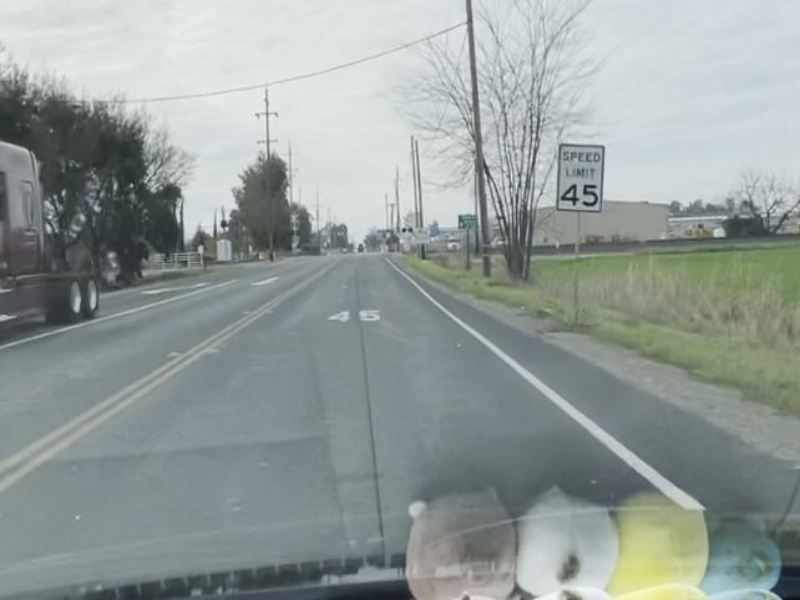speed limit sign: (552, 141, 608, 217)
